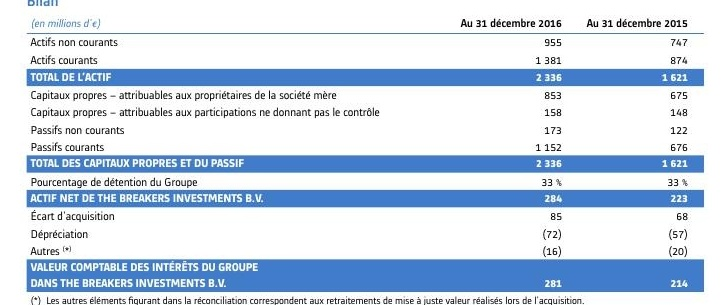table: (0, 0, 724, 305)
